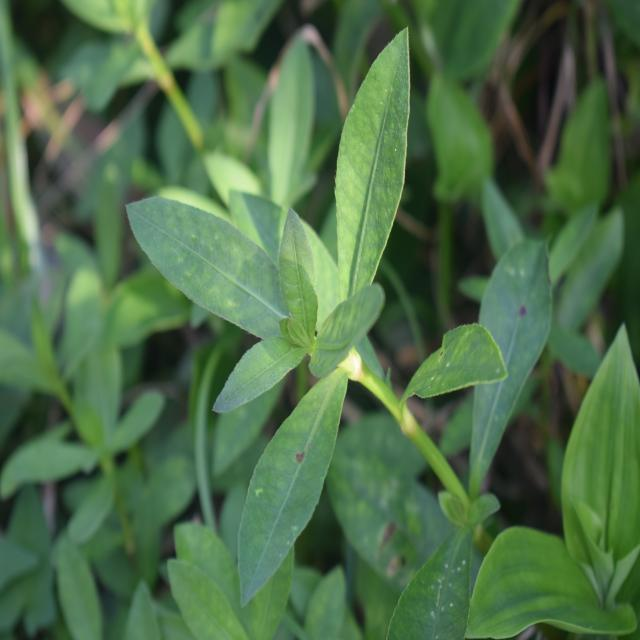Alligatorweed: (120, 76, 467, 555)
